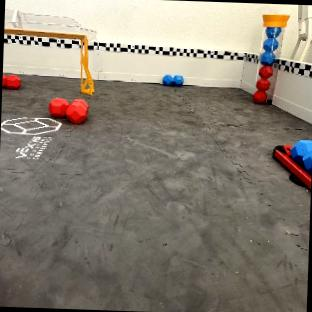Parking-R: (273, 146, 311, 188)
V5_BLUE: (289, 140, 312, 173), (260, 28, 280, 63), (163, 76, 184, 86)
V5_RED: (48, 98, 89, 124), (253, 77, 269, 103), (2, 74, 20, 88), (260, 65, 272, 79)
